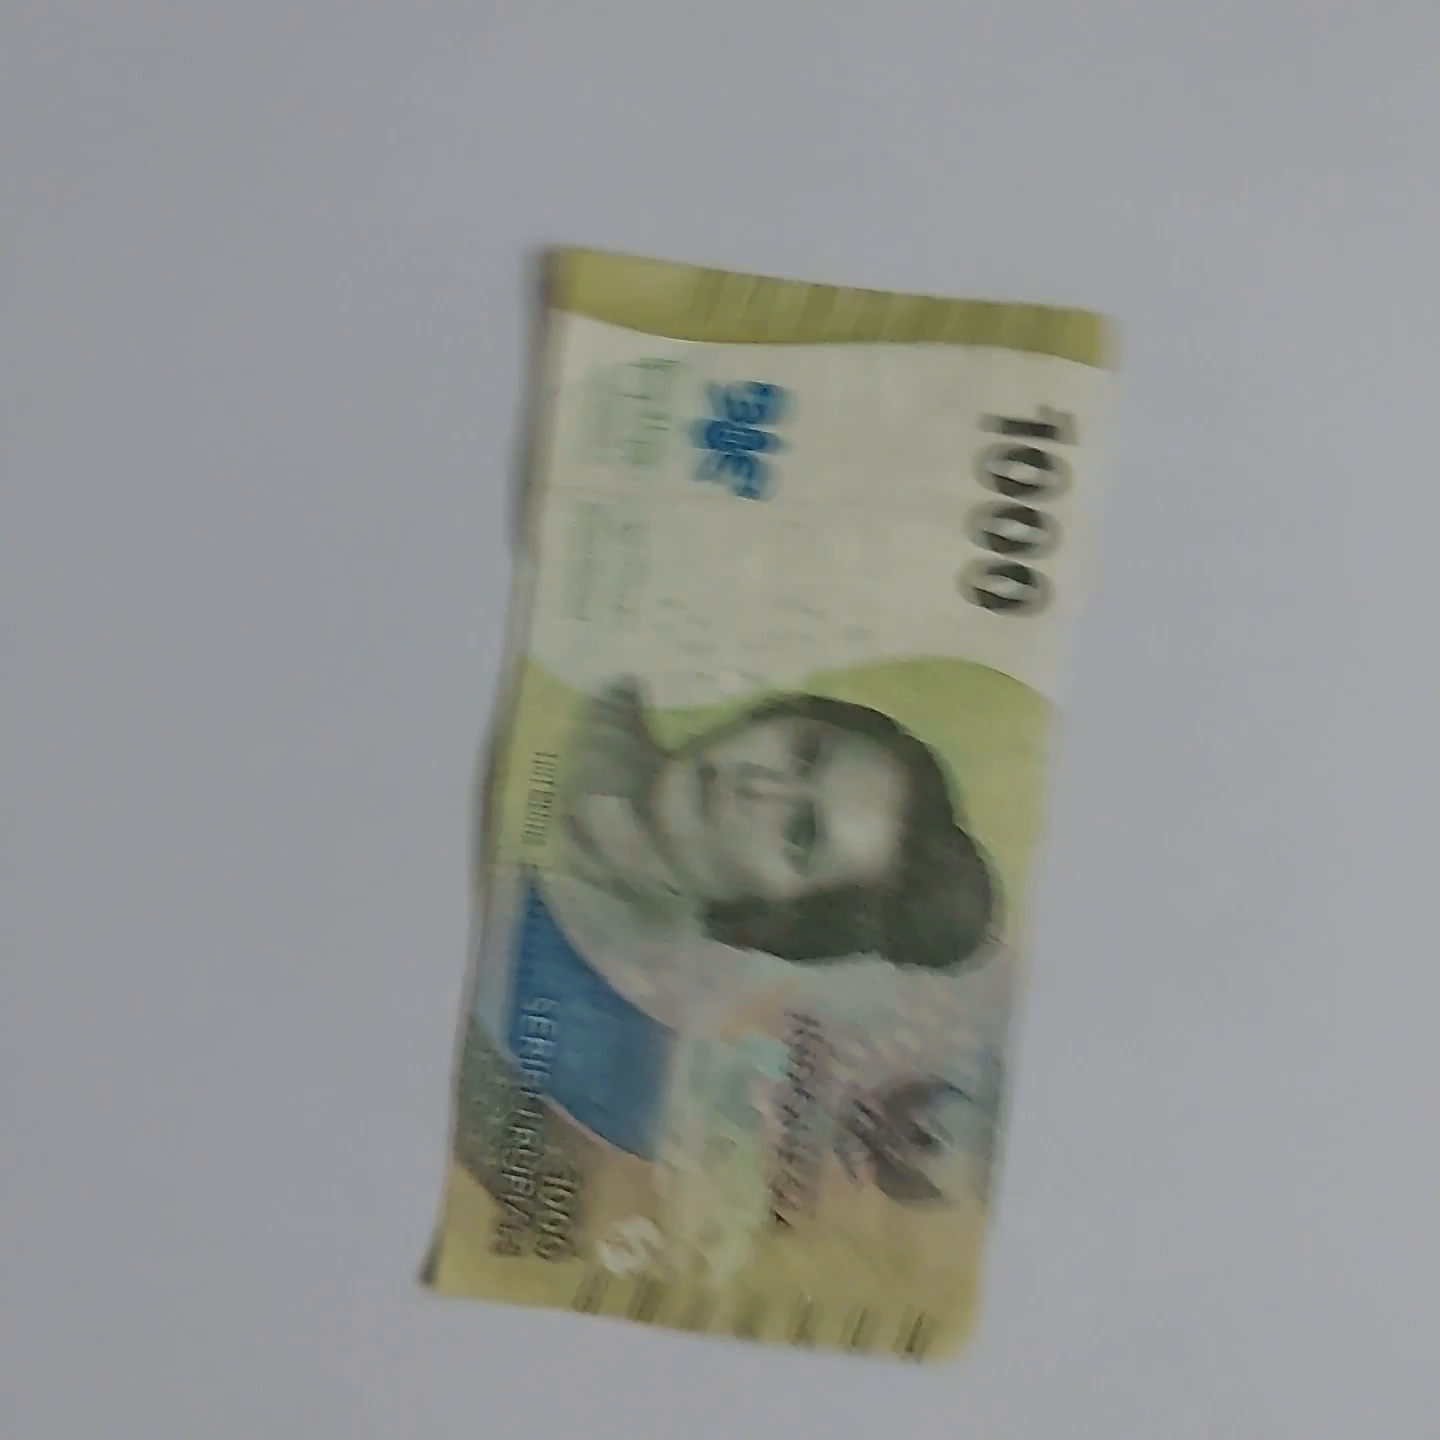1k: (454, 222, 1089, 1374)
